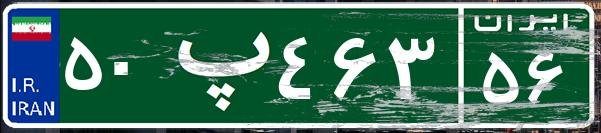0: (110, 28, 158, 105)
3: (385, 28, 445, 110)
4: (273, 28, 330, 110)
5: (57, 26, 110, 107), (475, 38, 525, 113)
6: (330, 28, 385, 110), (525, 38, 570, 115)
پ: (158, 15, 273, 115)
